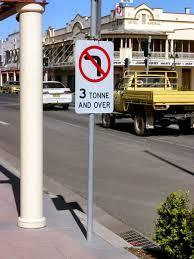no_left_turn: (78, 44, 110, 82)
